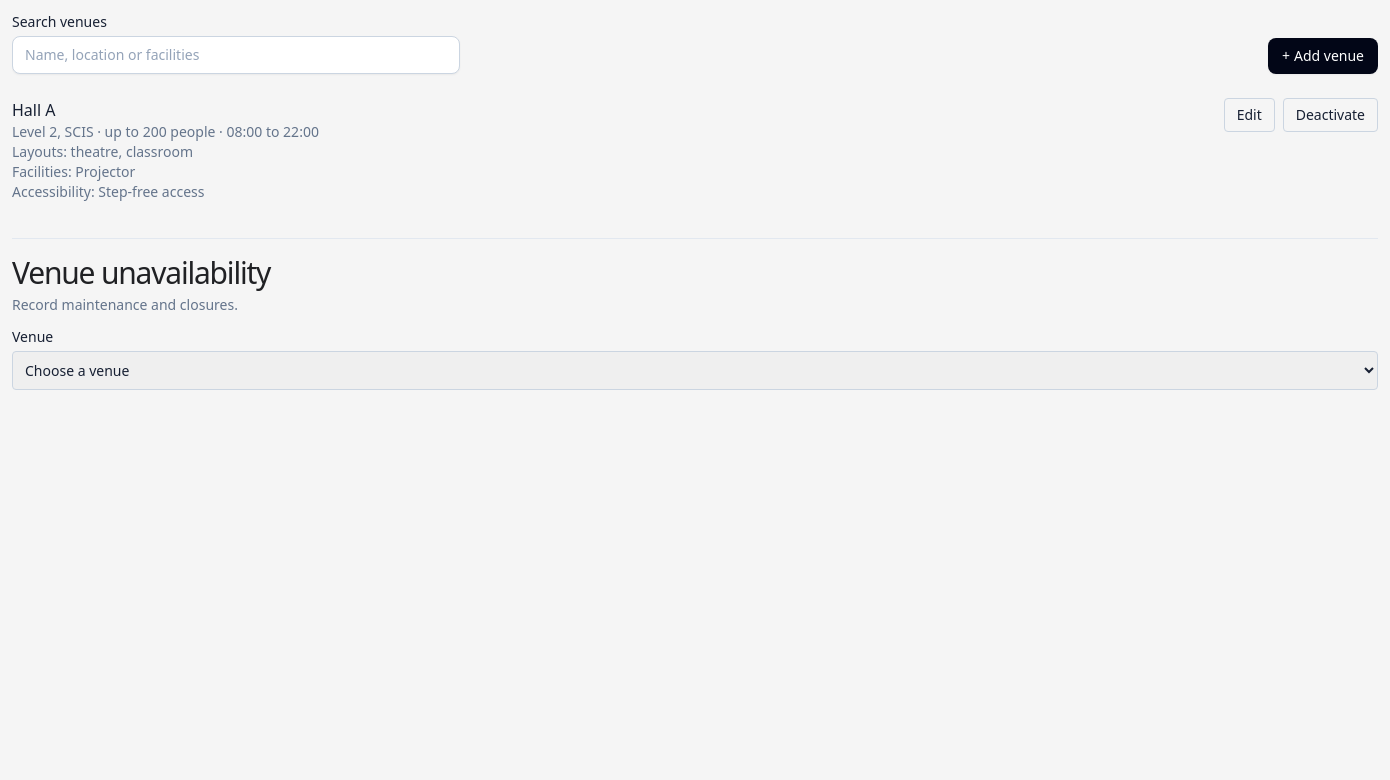
Test case: unavailability validation names the date and reason fields to correct
Select "Hall A" in the dropdown labelled "Venue": (695, 370) [12,351,1378,390]
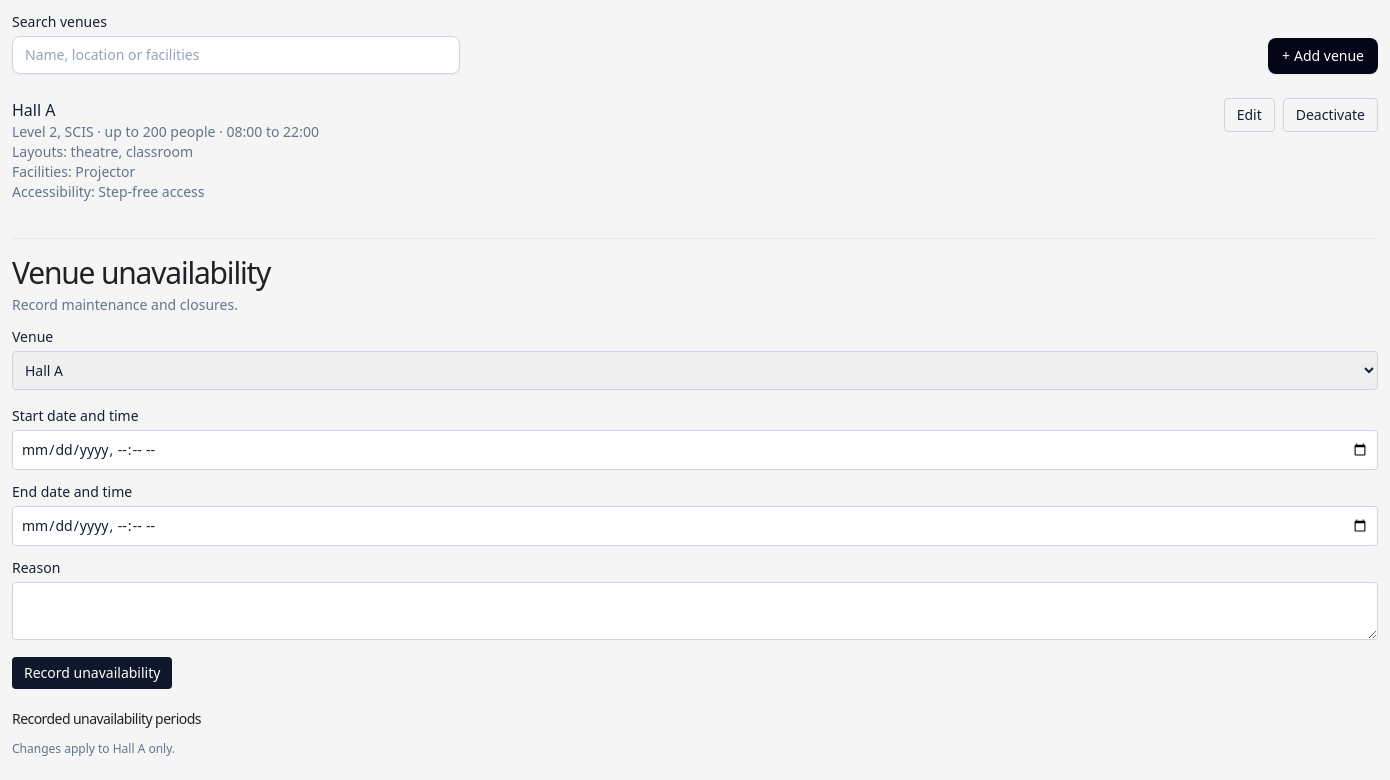
Click the button "Record unavailability": (92, 673) [12,657,172,689]
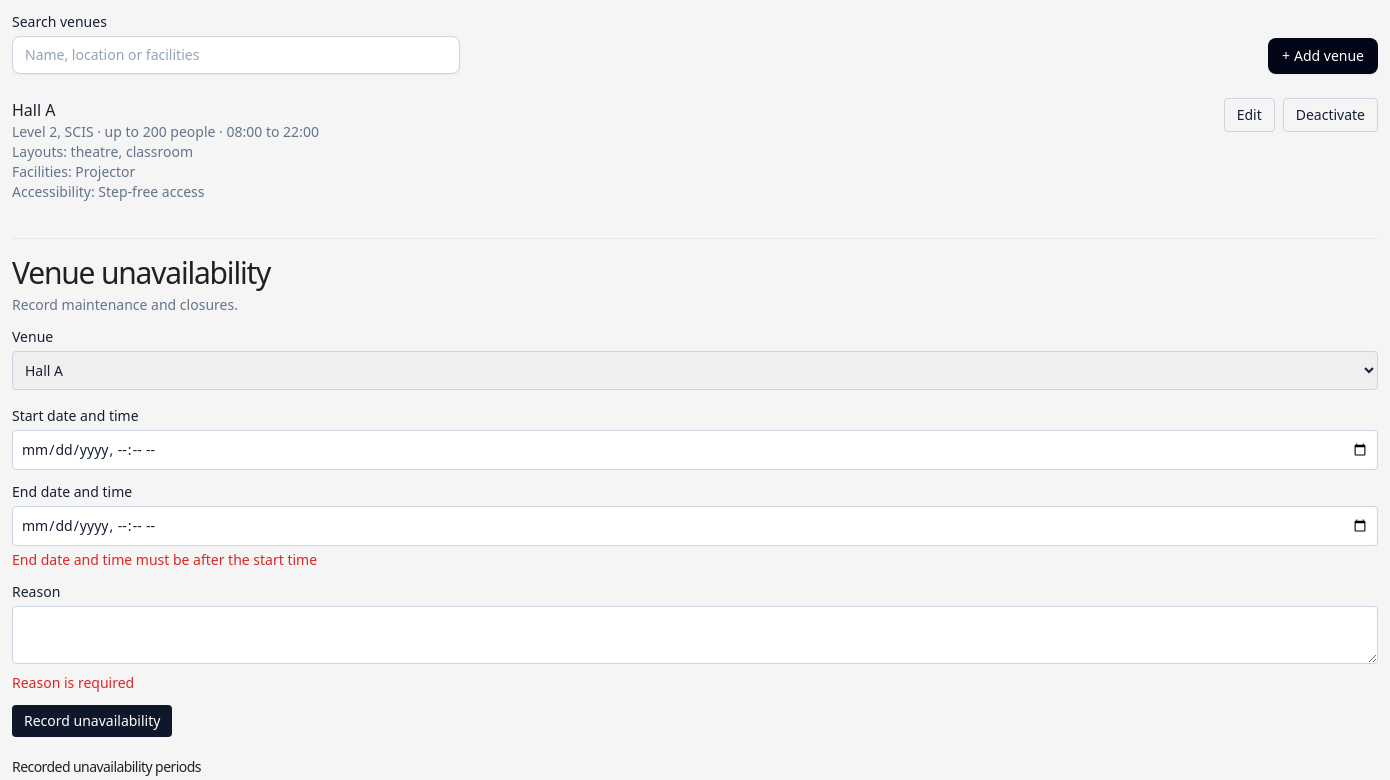
Expected: the text "End date and time must be after the start time" is shown, [12,550,317,569]
Expected: the text "Reason is required" is shown, [12,673,134,692]
